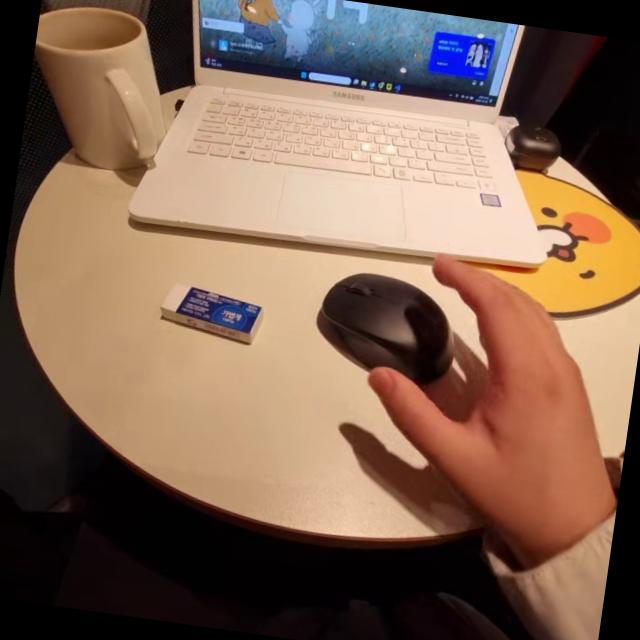eraser: (150, 272, 267, 368)
hand: (383, 238, 639, 572)
mouse: (310, 258, 463, 391)
